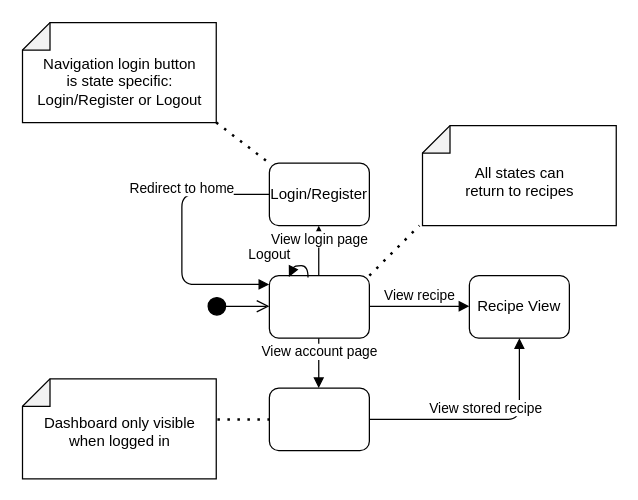
Image size: 638x500. Some labels were removed from this diagram. Each missing label, with the centre of its shape:
Dashboard: the point at 318,419
Recipes: the point at 318,306
